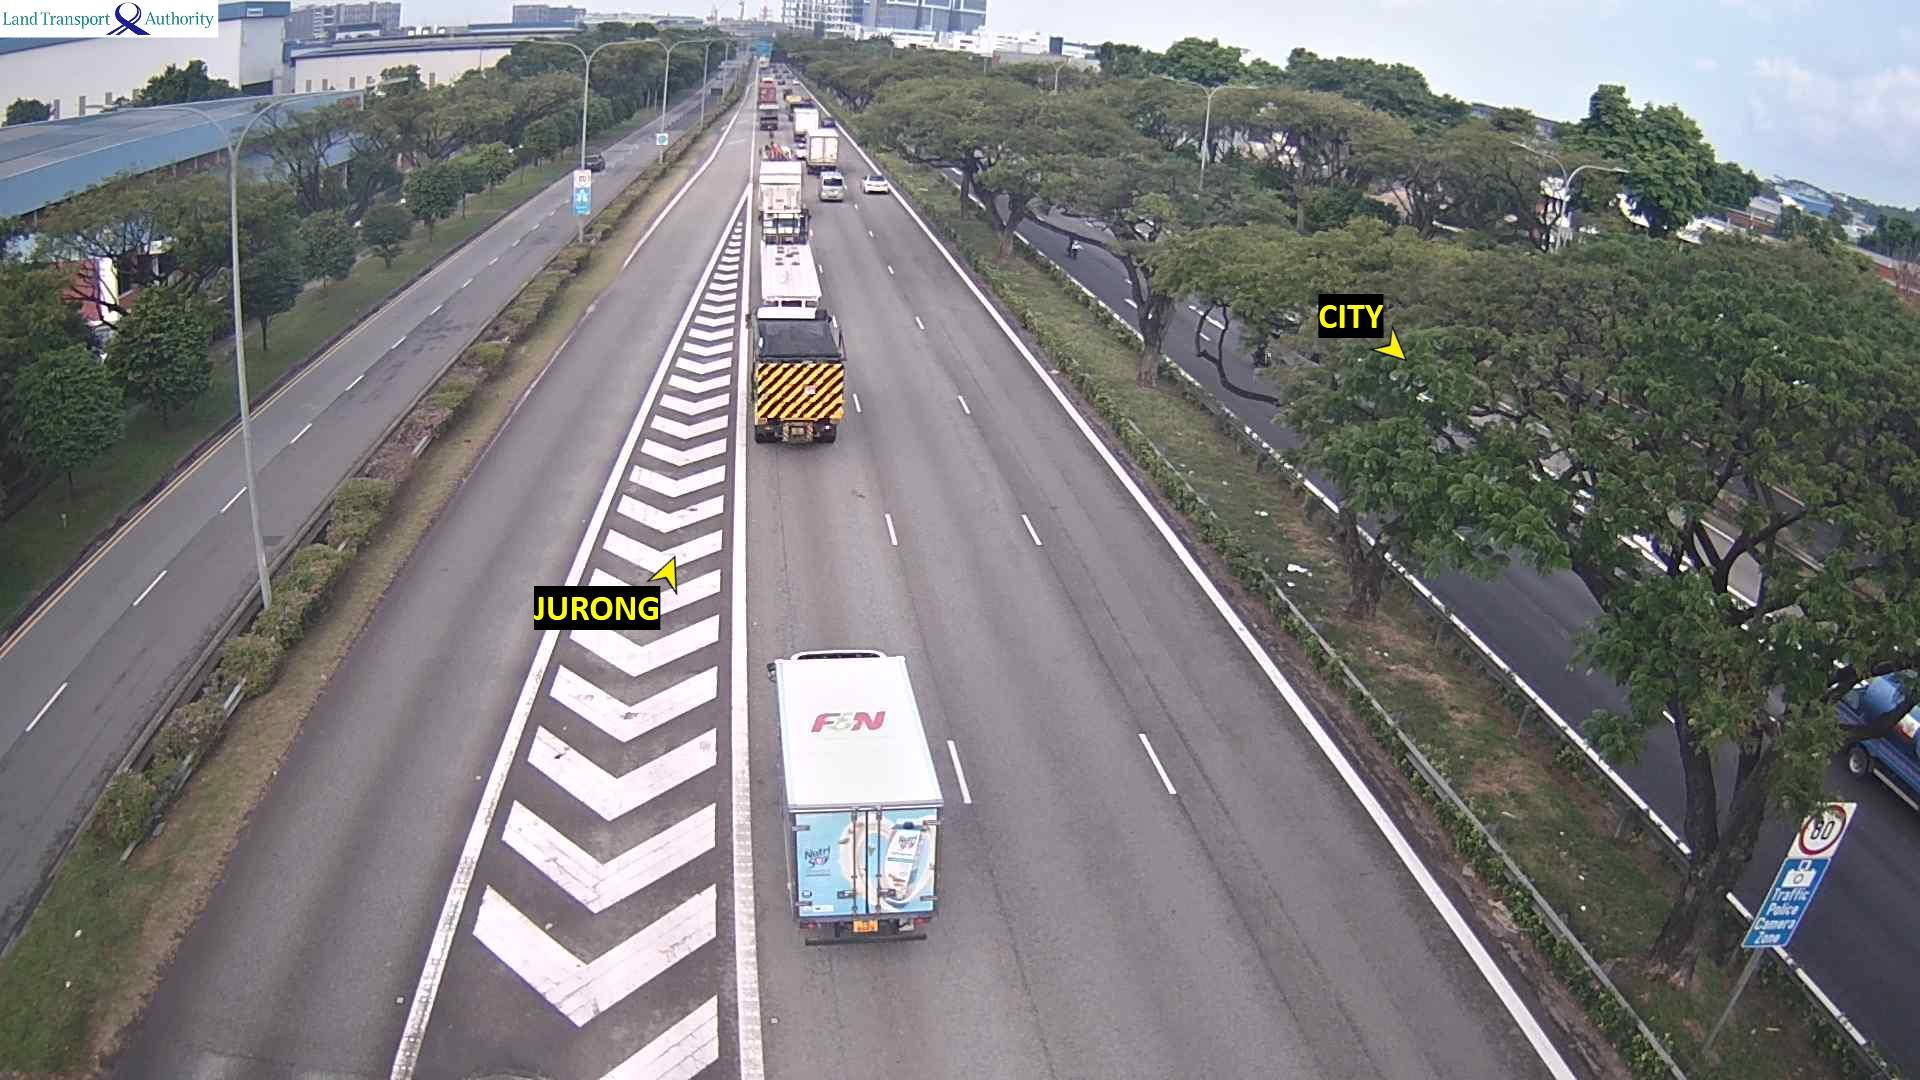bus: (761, 76, 774, 84)
cars: (1829, 665, 1919, 809), (878, 818, 934, 906), (837, 809, 887, 902), (818, 170, 846, 201), (859, 170, 889, 194), (584, 152, 604, 171), (820, 116, 840, 129), (792, 78, 802, 88), (783, 69, 792, 74), (787, 75, 797, 79), (775, 73, 781, 79), (778, 80, 785, 85), (774, 69, 779, 74)
motorcycle: (1065, 225, 1083, 265)
trucks: (766, 646, 945, 946), (749, 304, 846, 445), (759, 206, 822, 301), (757, 161, 802, 215), (804, 130, 840, 166), (792, 108, 822, 138), (761, 139, 794, 161), (756, 103, 779, 130), (759, 84, 779, 109), (786, 94, 809, 114)
